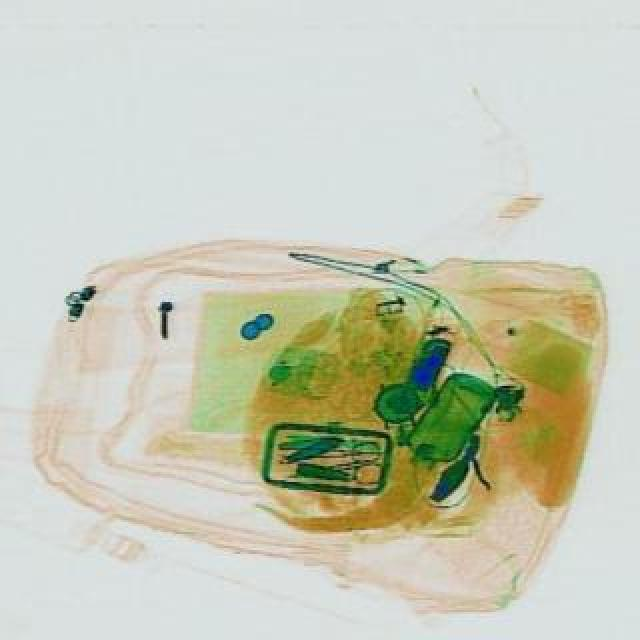pliers: (296, 438, 384, 490)
